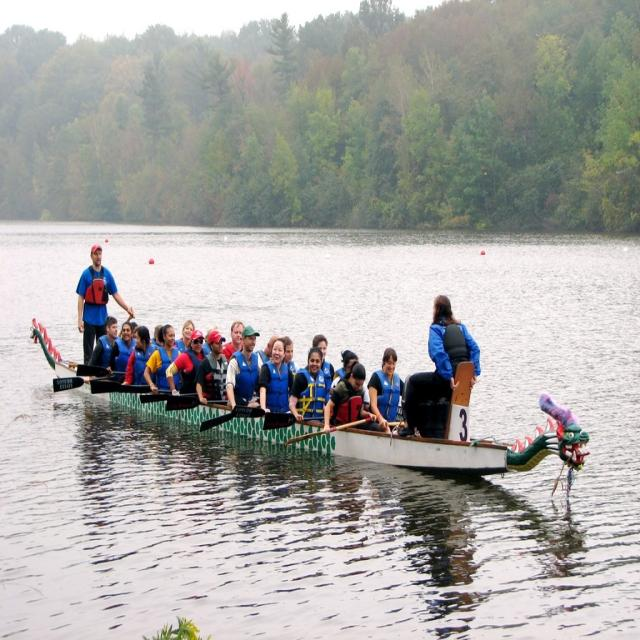Person: (75, 244, 481, 435)
